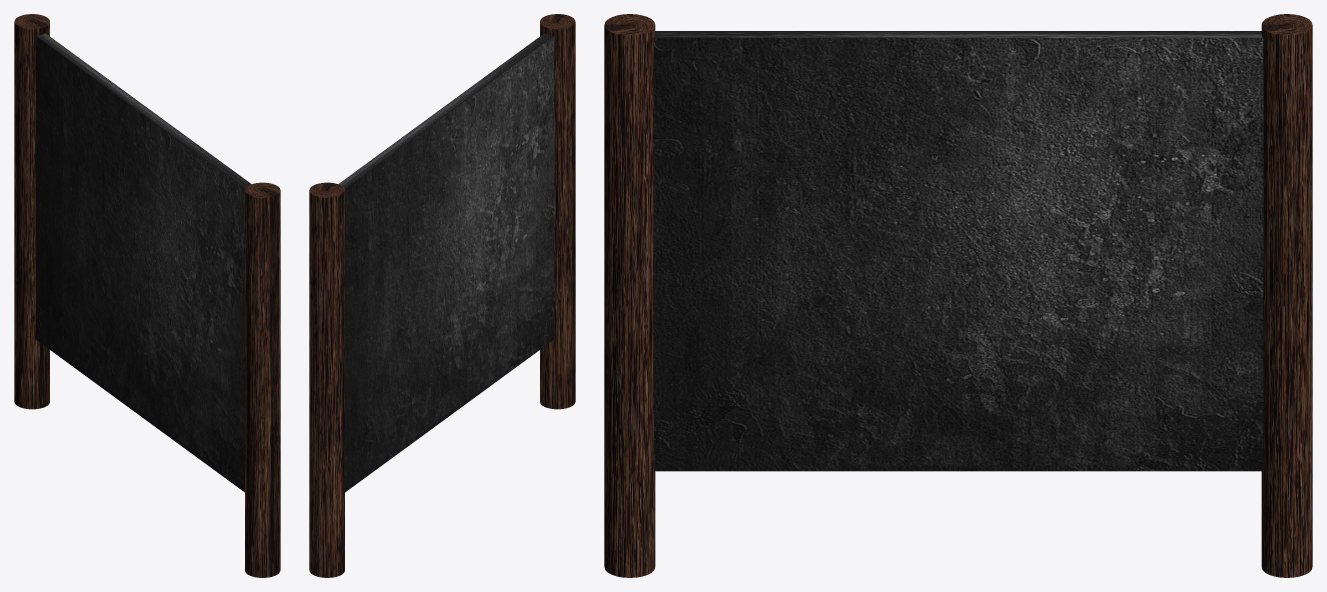
File: billboard.obj
3 views of the same model, side by side, from view 1: azimuth 30°, elevation 25°; view 2: azimuth 150°, elevation 25°; view 3: azimuth 270°, elevation 25° (orthographic). The views are drawn at different scales.
Visible parts, largest first — view 1: Box, Cylinder1, Cylinder; view 2: Box, Cylinder, Cylinder1; view 3: Box, Cylinder, Cylinder1.
Boxes of the visible parts, x1,y1,x2,y2 form: Box: [35, 33, 251, 492]; Cylinder1: [245, 182, 280, 577]; Cylinder: [14, 14, 49, 409]; Box: [338, 33, 554, 492]; Cylinder: [309, 182, 344, 577]; Cylinder1: [540, 14, 575, 409]; Box: [653, 31, 1263, 471]; Cylinder: [1261, 14, 1312, 577]; Cylinder1: [604, 14, 655, 577].
Bounding box in the file's own units: 0.3095 × 3.64 × 4.31.
2 materials, 2 textured.
